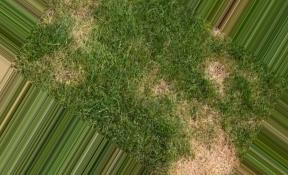patch: (187, 115, 224, 147), (48, 54, 79, 85), (139, 76, 177, 97), (201, 59, 227, 88), (186, 155, 225, 174), (62, 22, 98, 39), (73, 6, 92, 20), (206, 29, 221, 38)
